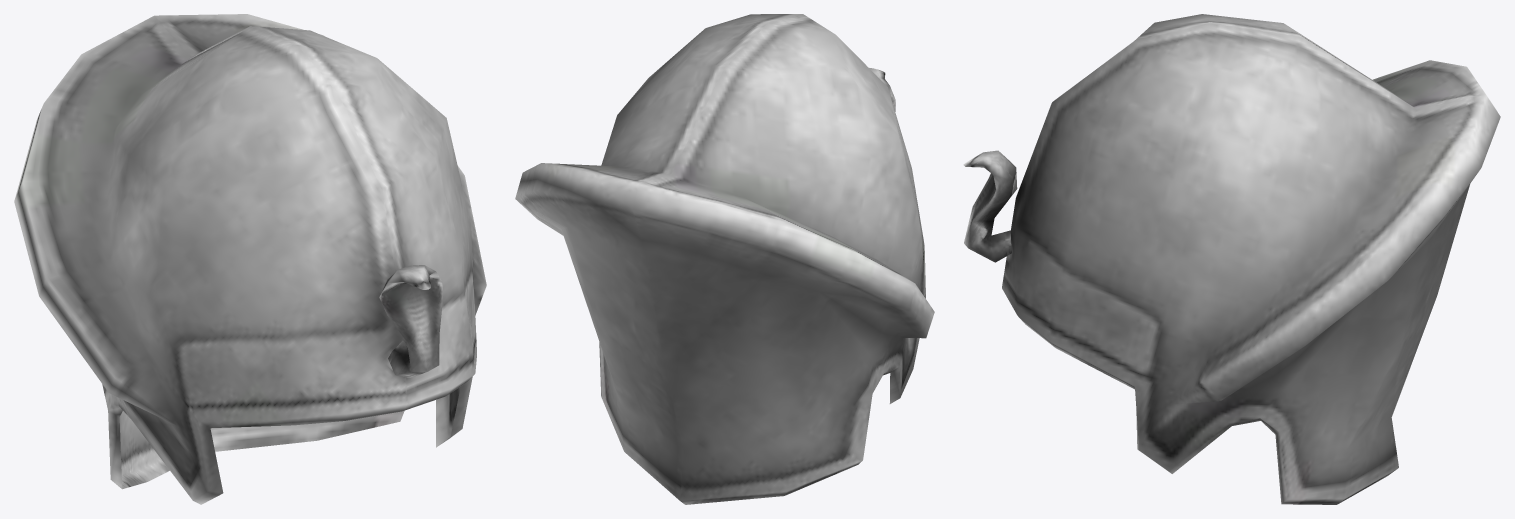
The model's file is rider-helmet-slice-championchariotarchers.glb.
3 renders of one model, left to right at view 1: azimuth 30°, elevation 25°; view 2: azimuth 150°, elevation 25°; view 3: azimuth 270°, elevation 25°, orthographic. The views are drawn at different scales.
Size of the model in its own units: 0.292 by 0.3154 by 0.3396.
Materials: 1 (1 with a texture image).
